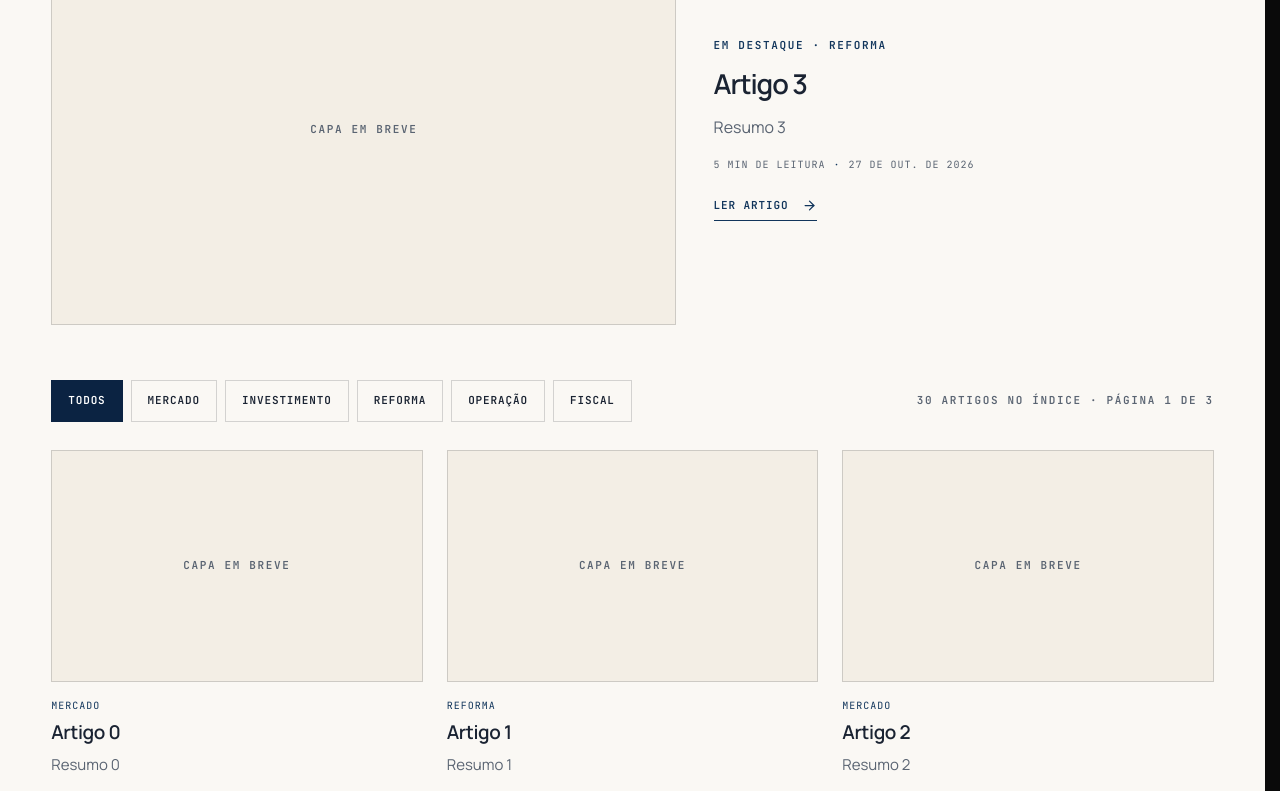
Test case: no navegador › filtro de categoria vale para todos os artigos, não só para a página
This screenshot has width=1280, height=791.
(page scrolled)
What coordinates should you click on to do the following:
click the button "Reforma"
I would click on:
 (400, 400)
Its box is [357, 380, 443, 422].
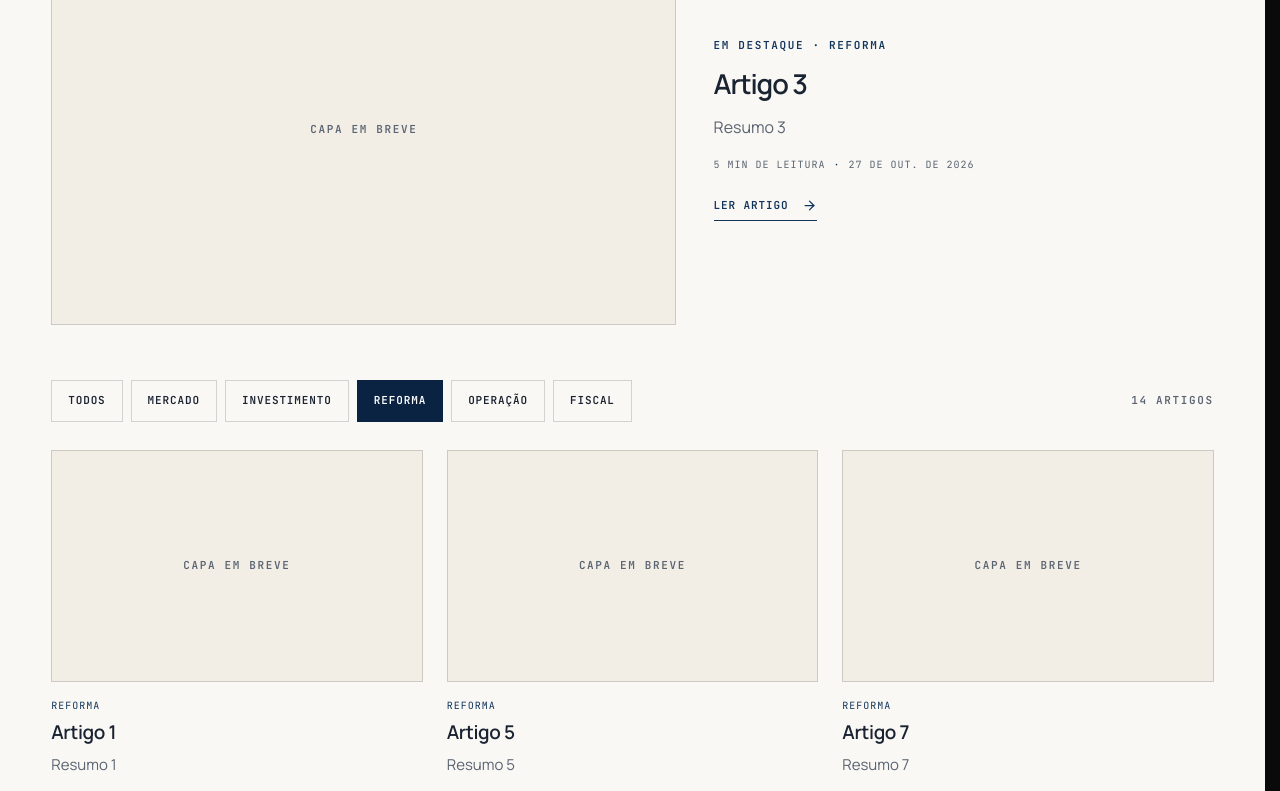
Expected: the number of links with class "ct-card" is 14
